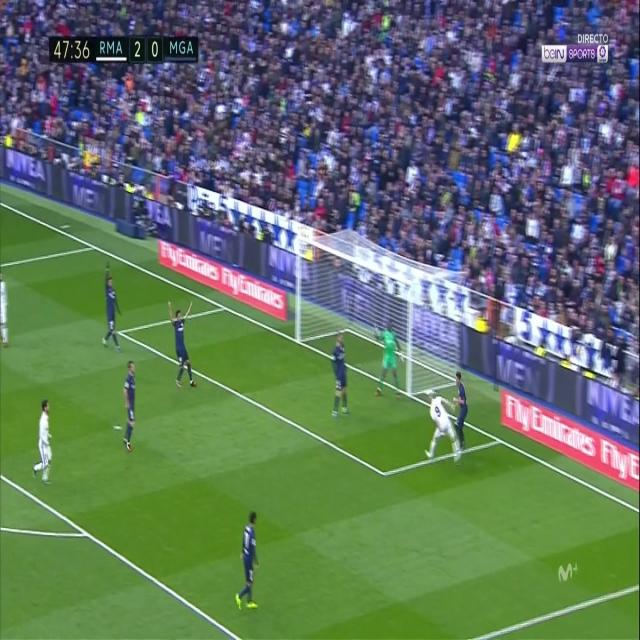Goalkeeper: (372, 321, 406, 400)
Player: (166, 298, 198, 390), (234, 507, 261, 613), (423, 389, 462, 462), (329, 329, 356, 420), (99, 259, 122, 350), (30, 398, 53, 486), (123, 358, 137, 456), (453, 368, 470, 448), (0, 271, 11, 353)
